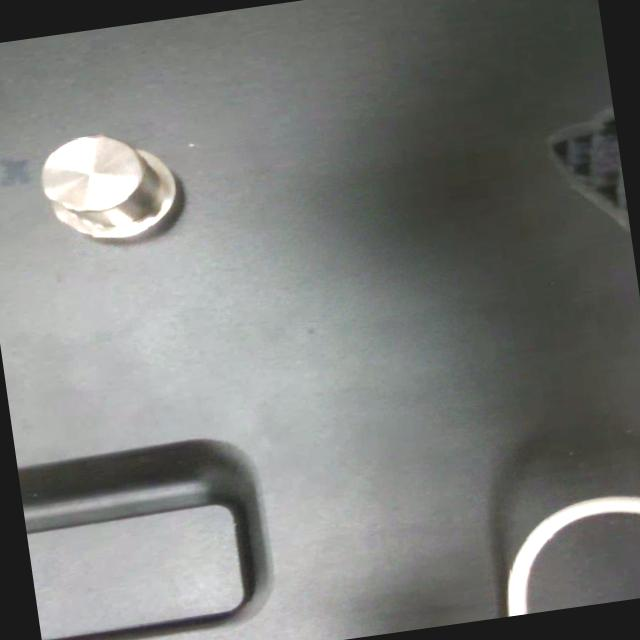sensor: (34, 122, 184, 250)
